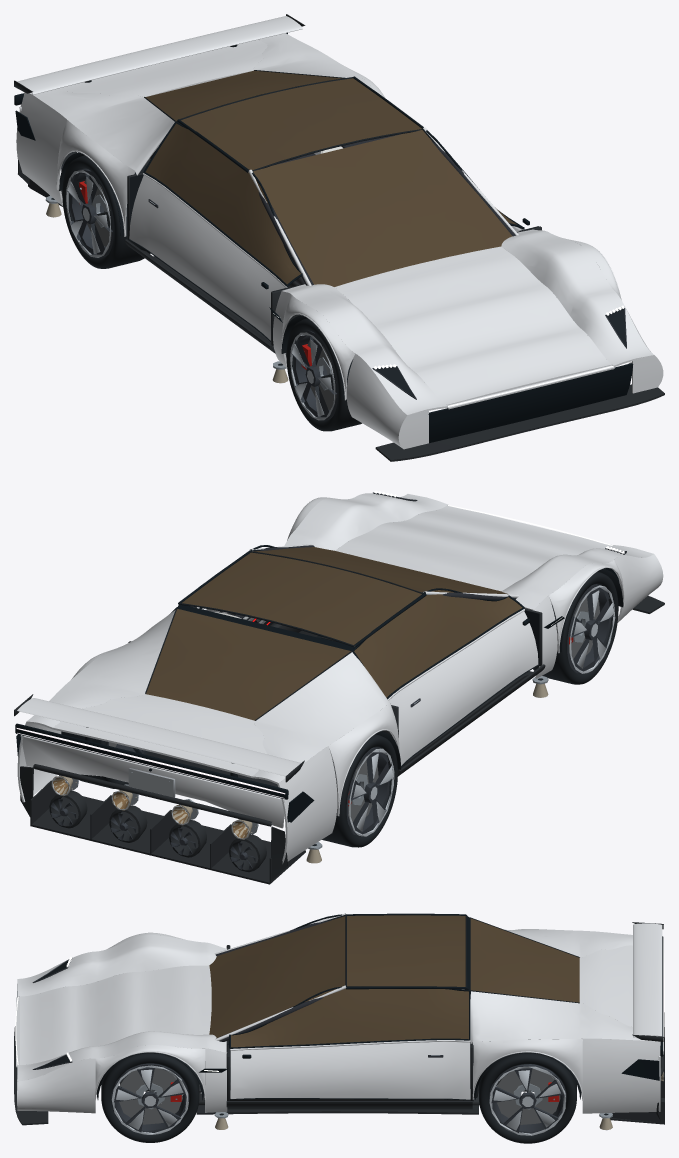
File: tesla-roadster-2026.lod0.glb
3 views of the same model, one above another, from view 1: azimuth 30°, elevation 25°; view 2: azimuth 150°, elevation 25°; view 3: azimuth 270°, elevation 25° (orthographic). The views are drawn at different scales.
Visible parts, largest first — view 1: body:paint, body:glass, body:carbon, removable-roof:glass, butterfly-door-right:paint, butterfly-door-right:glass, active-rear-wing:paint, front-right-steer-roll:titanium, rear-right-steer-roll:titanium, rear-right-steer-roll:rubber, front-right-steer-roll:rubber, removable-roof:carbon (+1 smaller); view 2: body:paint, body:carbon, body:glass, removable-roof:glass, butterfly-door-right:paint, butterfly-door-right:glass, active-rear-wing:paint, rear-right-steer-roll:titanium, front-right-steer-roll:titanium, body:titanium, rear-right-steer-roll:rubber, front-right-steer-roll:rubber (+2 smaller); view 3: body:paint, body:glass, butterfly-door-left:paint, butterfly-door-left:glass, body:carbon, removable-roof:glass, rear-left-steer-roll:titanium, front-left-steer-roll:titanium, active-rear-wing:paint, rear-left-steer-roll:rubber, front-left-steer-roll:rubber, removable-roof:carbon (+2 smaller).
Boxes of the visible parts, <box> form: body:paint: <box>16,33,663,449</box>; body:glass: <box>145,70,512,286</box>; body:carbon: <box>14,32,664,461</box>; removable-roof:glass: <box>181,78,421,169</box>; butterfly-door-right:paint: <box>129,121,302,341</box>; butterfly-door-right:glass: <box>145,123,301,284</box>; active-rear-wing:paint: <box>14,14,305,94</box>; front-right-steer-roll:titanium: <box>290,331,337,420</box>; rear-right-steer-roll:titanium: <box>66,168,113,257</box>; rear-right-steer-roll:rubber: <box>62,155,150,268</box>; front-right-steer-roll:rubber: <box>286,318,361,431</box>; removable-roof:carbon: <box>177,76,423,172</box>; body:paint: <box>17,493,663,863</box>; body:carbon: <box>15,492,664,884</box>; body:glass: <box>146,547,508,720</box>; removable-roof:glass: <box>182,552,421,646</box>; butterfly-door-right:paint: <box>352,588,539,766</box>; butterfly-door-right:glass: <box>354,590,522,697</box>; active-rear-wing:paint: <box>14,694,304,782</box>; rear-right-steer-roll:titanium: <box>346,747,394,836</box>; front-right-steer-roll:titanium: <box>567,584,615,673</box>; body:titanium: <box>51,640,571,863</box>; rear-right-steer-roll:rubber: <box>322,734,397,847</box>; front-right-steer-roll:rubber: <box>533,571,618,684</box>; body:paint: <box>16,913,660,1113</box>; body:glass: <box>209,916,579,1037</box>; butterfly-door-left:paint: <box>229,986,470,1100</box>; butterfly-door-left:glass: <box>231,988,468,1047</box>; body:carbon: <box>14,914,664,1125</box>; removable-roof:glass: <box>347,915,465,986</box>; rear-left-steer-roll:titanium: <box>489,1064,566,1135</box>; front-left-steer-roll:titanium: <box>111,1063,189,1134</box>; active-rear-wing:paint: <box>632,922,663,1041</box>; rear-left-steer-roll:rubber: <box>479,1053,576,1143</box>; front-left-steer-roll:rubber: <box>101,1053,199,1142</box>; removable-roof:carbon: <box>345,913,467,989</box>.
Size of the model in its own units: 2.01 by 1.1 by 4.65.
